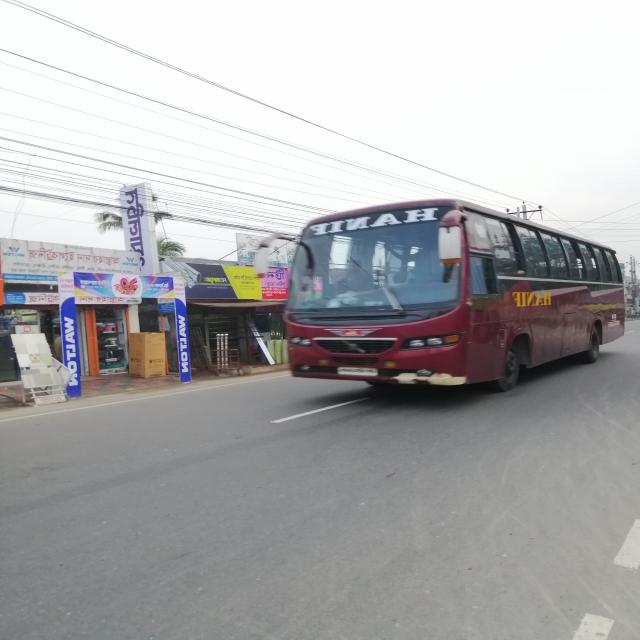Bus: (265, 193, 640, 410)
